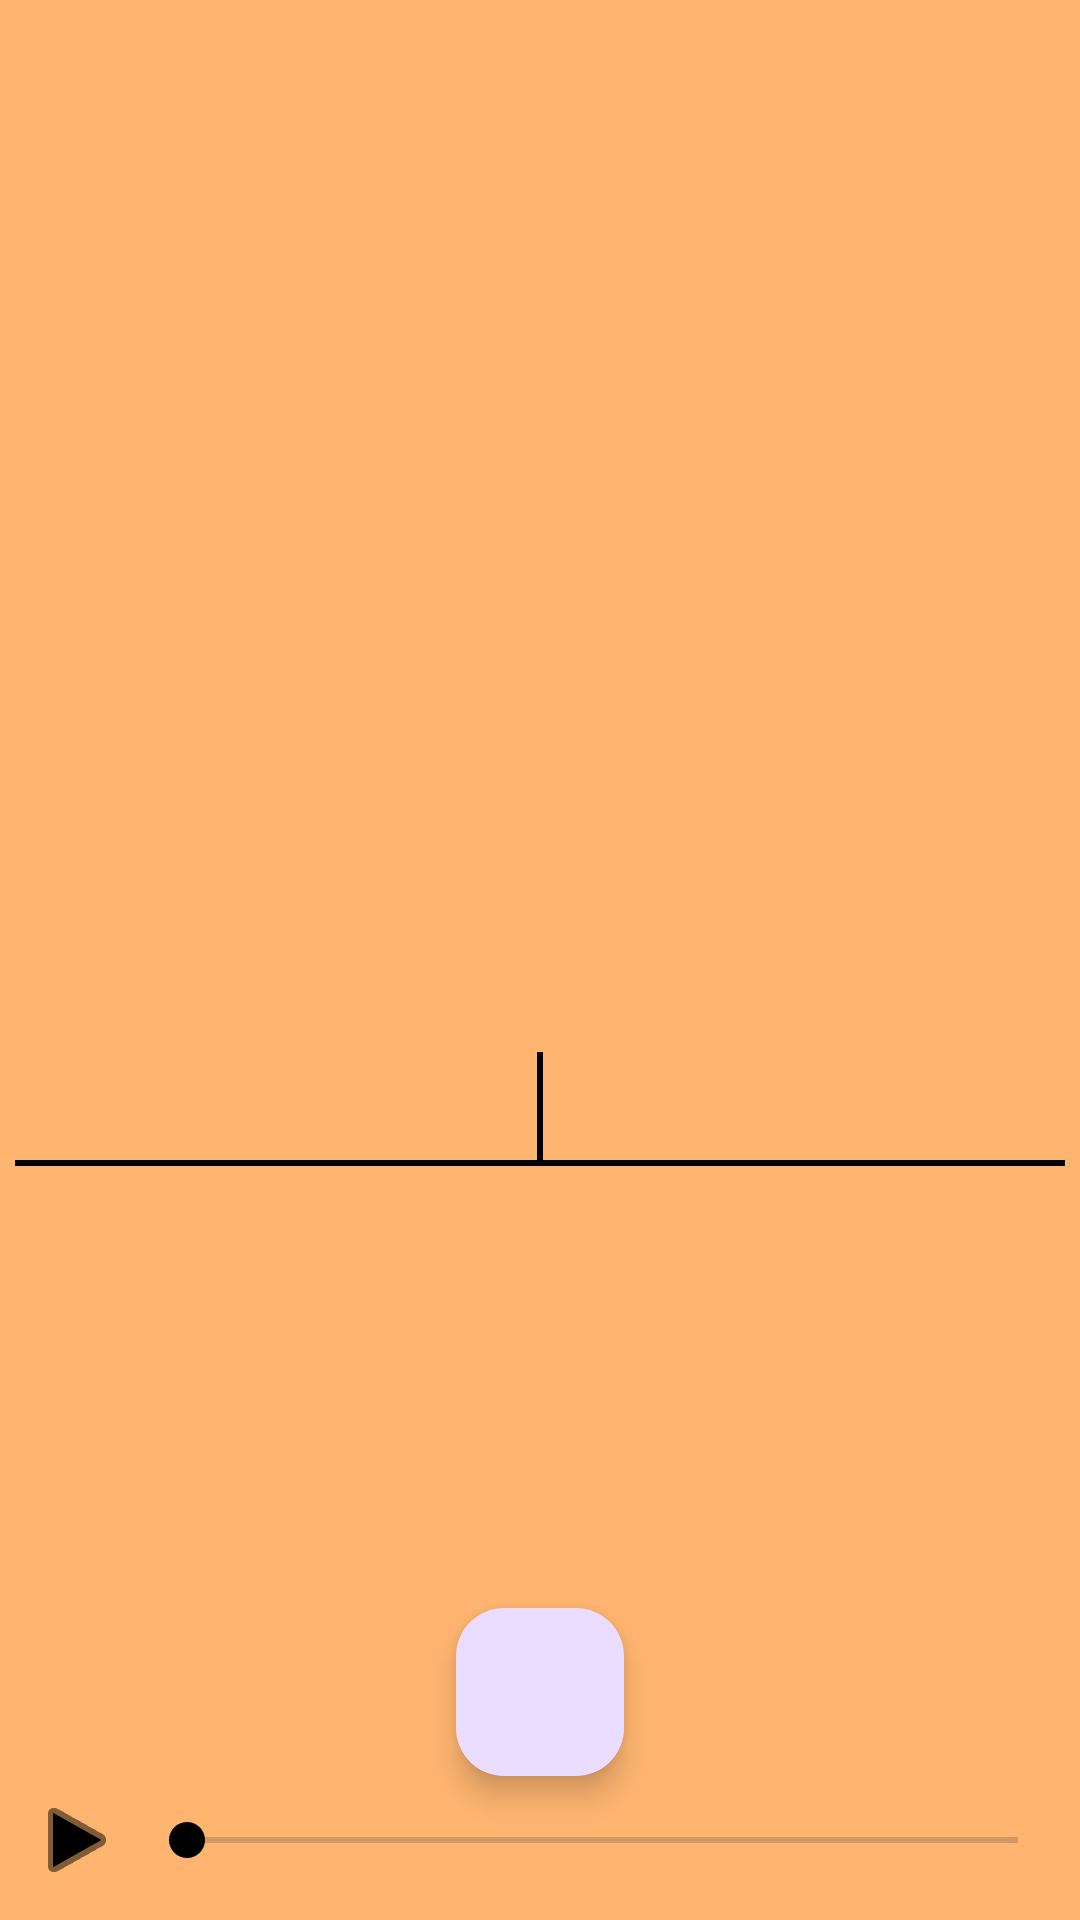

Named icons in this screenshot (1080px×1920px) and their bounding boxes, (x1, y1, x2, y2):
play: (48, 1808, 106, 1872)
